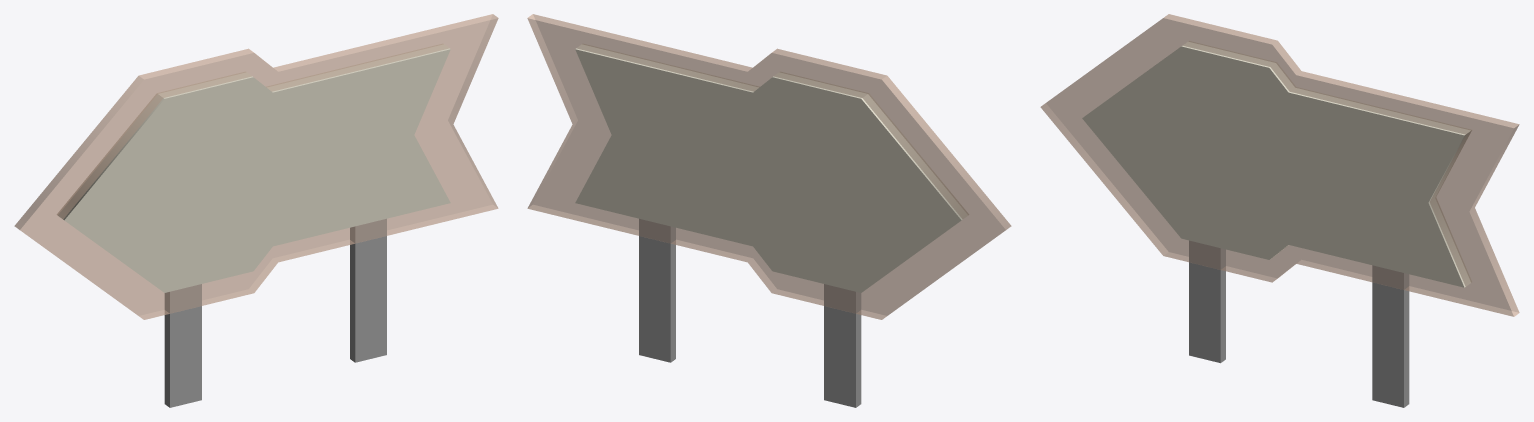
File: arrowSign.fbx
3 views of the same model, side by side, from view 1: azimuth 30°, elevation 25°; view 2: azimuth 150°, elevation 25°; view 3: azimuth 330°, elevation 25° (orthographic).
Visible parts, largest first — view 1: polySurface26; view 2: polySurface26; view 3: polySurface26.
Part boxes in pixels (x1,y1,x2,y2): polySurface26: (14, 14, 498, 407); polySurface26: (527, 14, 1011, 407); polySurface26: (1040, 14, 1519, 407).
Bounding box in the file's own units: 352 × 235 × 9.96.
